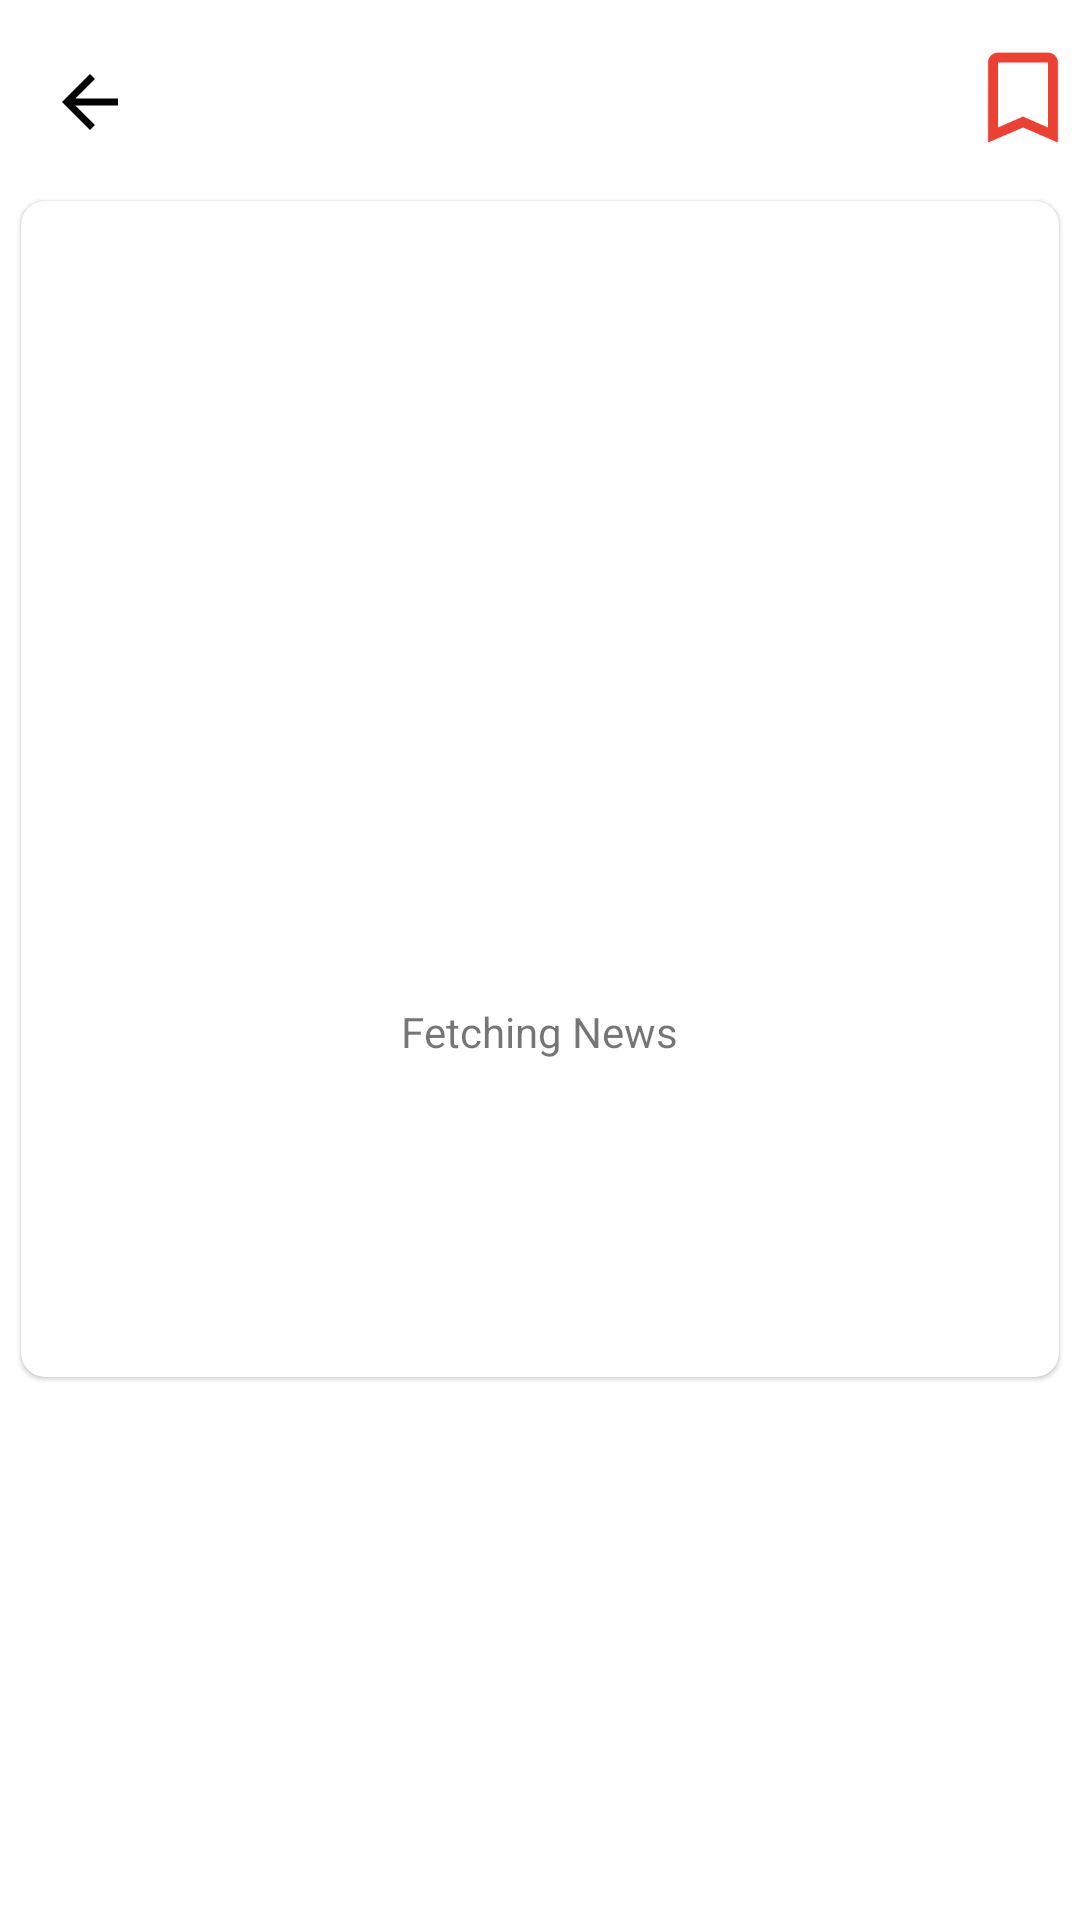

Icon bounding boxes for this 1080px×1920px phone screenshot, format bbox(x1, y1, x2, y2):
arrow back: bbox(62, 74, 118, 130)
bookmark single border: bbox(987, 52, 1059, 143)
